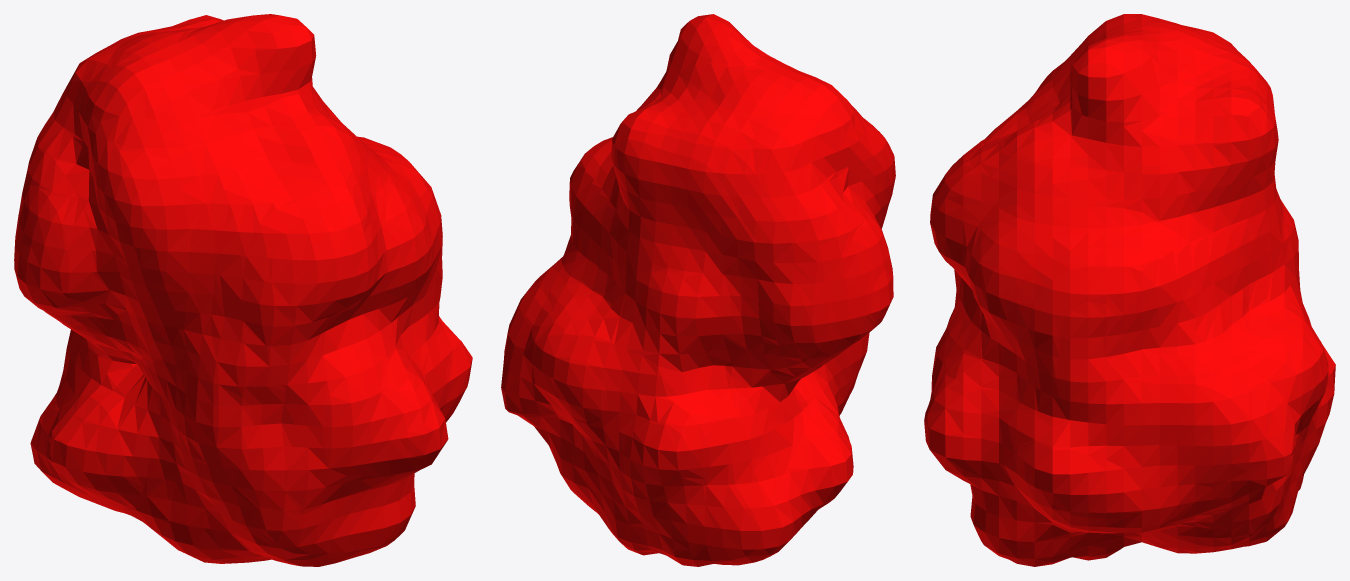
Rendered from gpsA_coarse.dae.
3 renders of one model, left to right at view 1: azimuth 30°, elevation 25°; view 2: azimuth 150°, elevation 25°; view 3: azimuth 270°, elevation 25°, orthographic. The views are drawn at different scales.
Visible parts, largest first — view 1: gpsA; view 2: gpsA; view 3: gpsA.
Boxes of the visible parts, x1,y1,x2,y2 form: gpsA: (14,14,472,566); gpsA: (501,14,895,566); gpsA: (924,14,1335,566).
Size of the model in its own units: 48.95 by 63.28 by 46.17.
